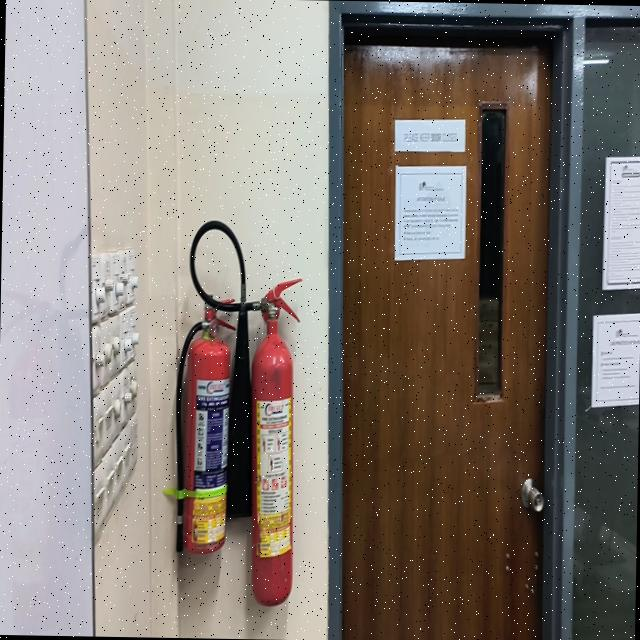Fire Extinguisher: (252, 303, 292, 604), (182, 311, 230, 553)
